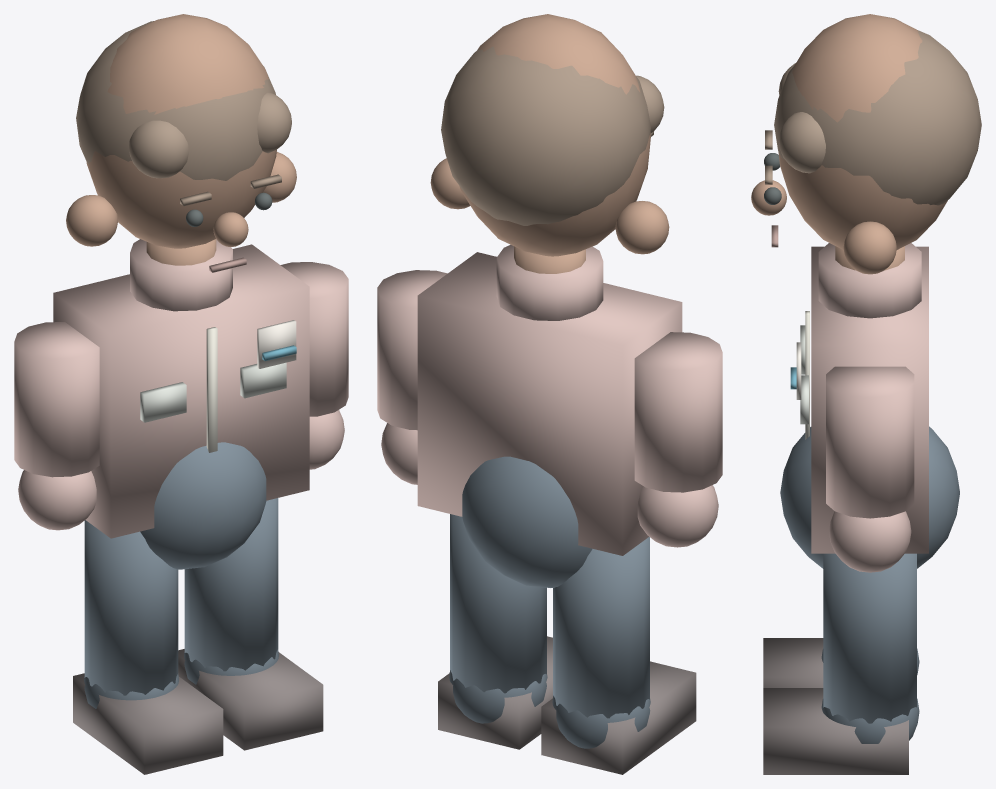
Rendered from mercy_person_17.glb.
3 renders of one model, left to right at view 1: azimuth 30°, elevation 25°; view 2: azimuth 150°, elevation 25°; view 3: azimuth 270°, elevation 25°, orthographic. The views are drawn at different scales.
Visible parts, largest first — view 1: SkinClothing_0, SkinClothing_2, Arm_Left, SkinClothing_6, Leg_Left, Leg_Right, SkinClothing_1, Boot_Left, Boot_Right, Arm_Right, SkinClothing_4, SkinClothing_3 (+1 smaller); view 2: SkinClothing_0, SkinClothing_6, Arm_Left, Leg_Left, SkinClothing_2, Leg_Right, SkinClothing_1, Arm_Right, Boot_Left, Boot_Right; view 3: SkinClothing_6, SkinClothing_2, SkinClothing_0, Arm_Right, Leg_Right, Boot_Right, SkinClothing_1, Boot_Left, SkinClothing_4, SkinClothing_5, SkinClothing_3.
Part boxes in pixels (<box>): SkinClothing_0: <box>53,239,309,538</box>; SkinClothing_2: <box>66,14,296,265</box>; Arm_Left: <box>14,322,99,530</box>; SkinClothing_6: <box>76,21,291,206</box>; Leg_Left: <box>84,520,178,708</box>; Leg_Right: <box>184,498,278,684</box>; SkinClothing_1: <box>140,442,266,569</box>; Boot_Left: <box>73,673,223,774</box>; Boot_Right: <box>178,649,323,750</box>; Arm_Right: <box>280,262,348,469</box>; SkinClothing_4: <box>140,362,286,422</box>; SkinClothing_3: <box>206,327,217,452</box>; SkinClothing_0: <box>417,244,682,555</box>; SkinClothing_6: <box>441,46,664,225</box>; Arm_Left: <box>634,332,722,547</box>; Leg_Left: <box>552,537,650,748</box>; SkinClothing_2: <box>430,14,669,273</box>; Leg_Right: <box>449,514,547,723</box>; SkinClothing_1: <box>462,456,592,587</box>; Arm_Right: <box>377,270,447,484</box>; Boot_Left: <box>541,661,696,774</box>; Boot_Right: <box>438,636,552,749</box>; SkinClothing_6: <box>765,30,981,205</box>; SkinClothing_2: <box>751,14,947,274</box>; SkinClothing_0: <box>811,243,928,553</box>; Arm_Right: <box>826,366,914,572</box>; Leg_Right: <box>821,553,919,743</box>; Boot_Right: <box>763,688,908,774</box>; SkinClothing_1: <box>780,426,959,568</box>; Boot_Left: <box>763,638,823,687</box>; SkinClothing_4: <box>800,325,808,424</box>; SkinClothing_5: <box>764,153,781,204</box>; SkinClothing_3: <box>805,311,809,439</box>.
Size of the model in its own units: 1.18 by 2.43 by 0.7147.
